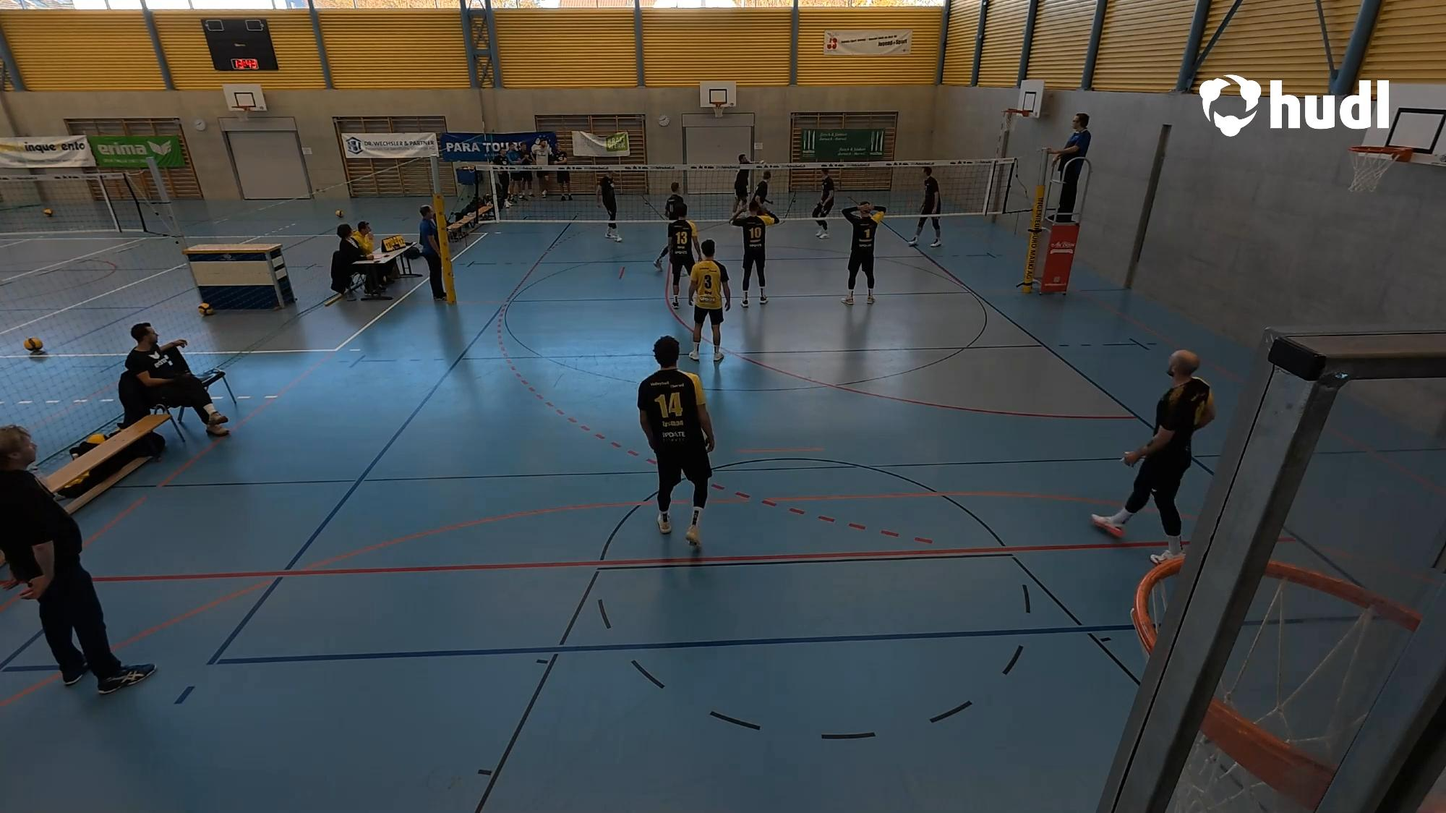battuta: (725, 146, 766, 224)
